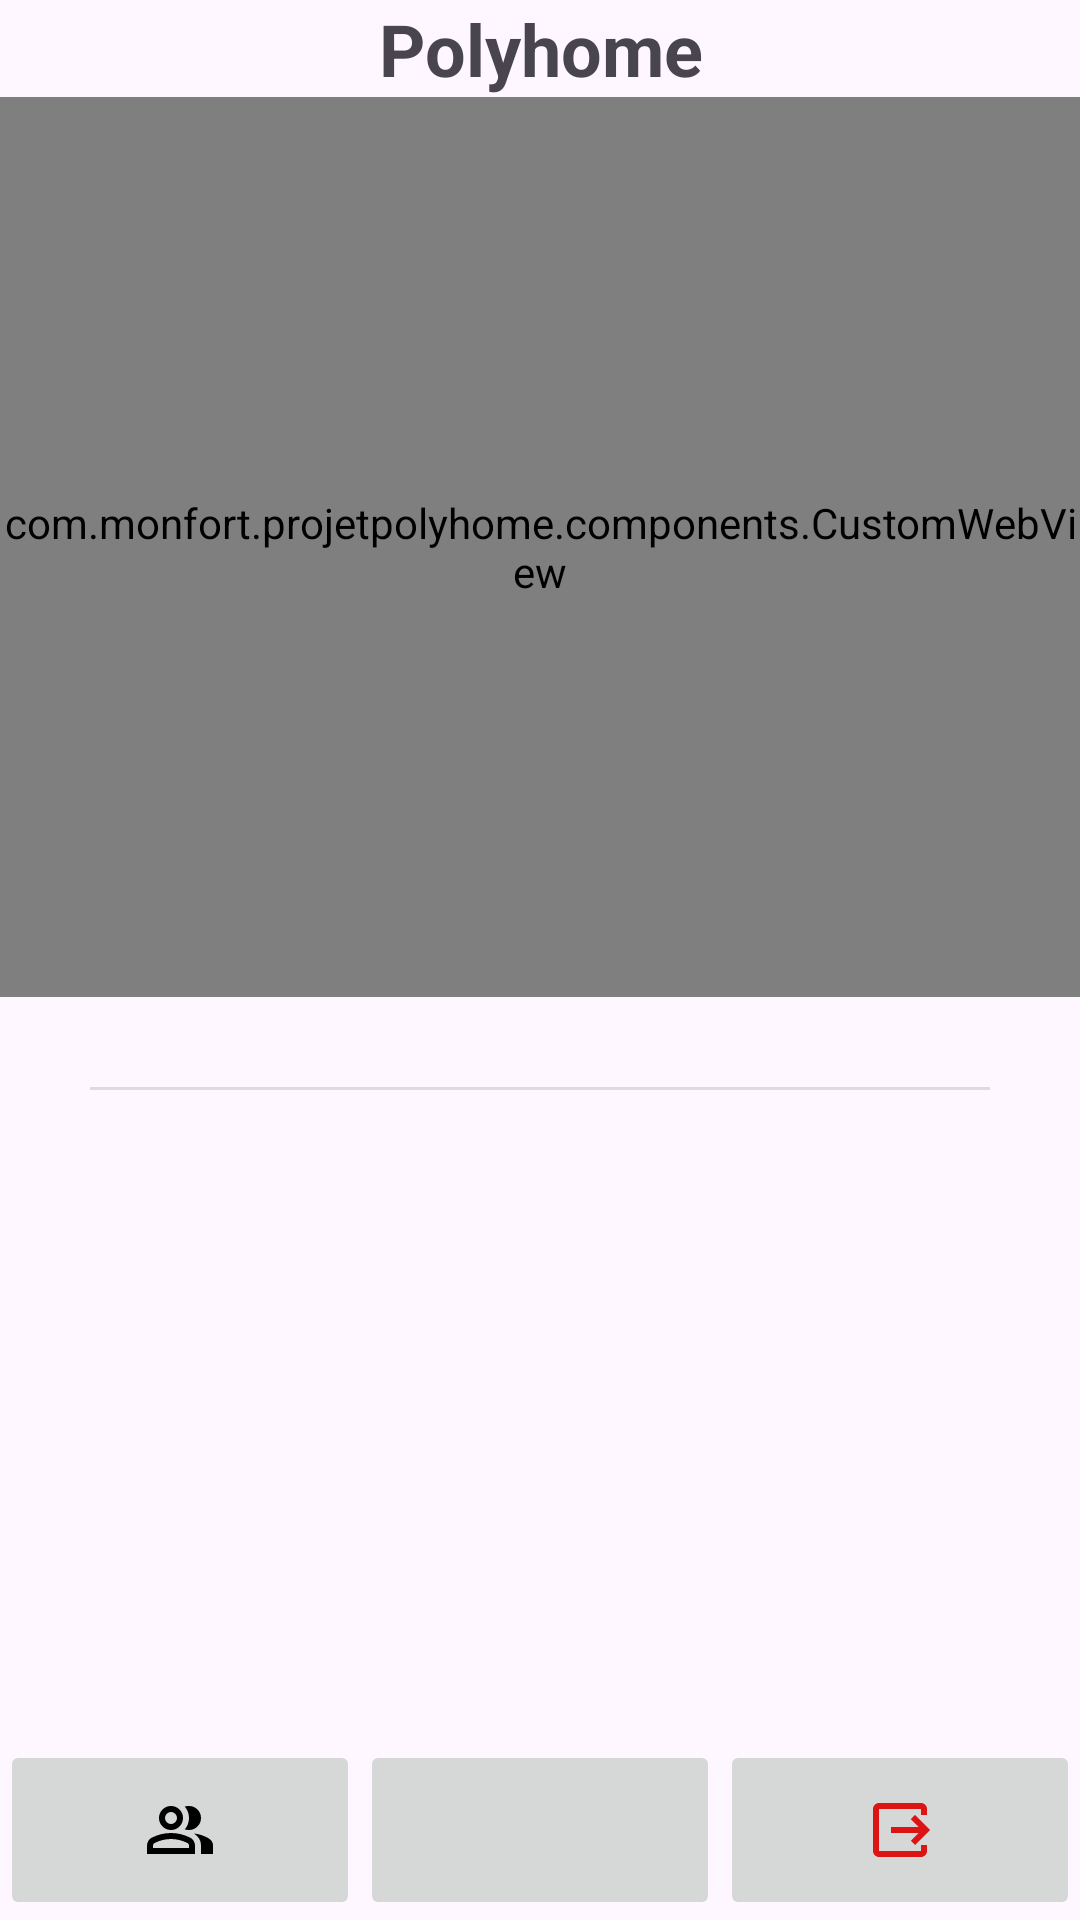

Where icons sit on this 1080px x 1920px app screen, as (x1=x1, y1=y1, x2=x2, y2=y2):
disconnect: (x1=732, y1=1758, x2=1068, y2=1902)
users: (x1=12, y1=1758, x2=348, y2=1902)
